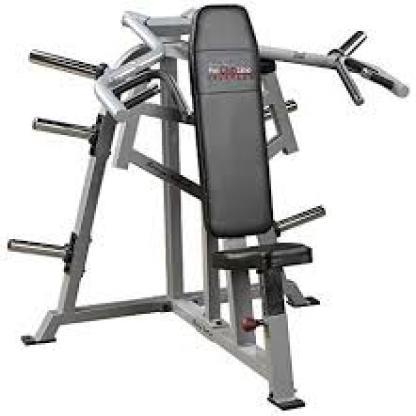shoulder press machine: (7, 2, 412, 410)
